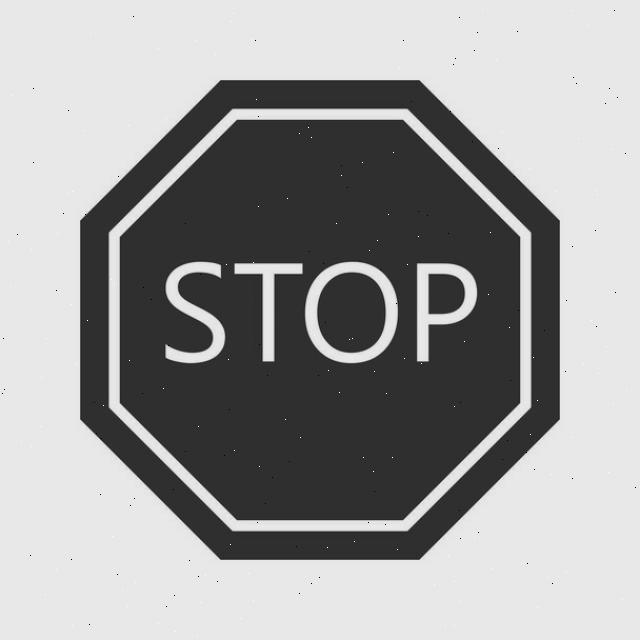Stop-sign: (49, 65, 576, 571)
